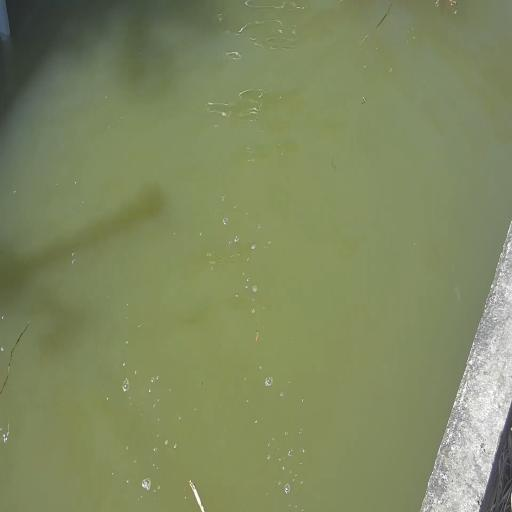twig: (188, 474, 210, 512)
